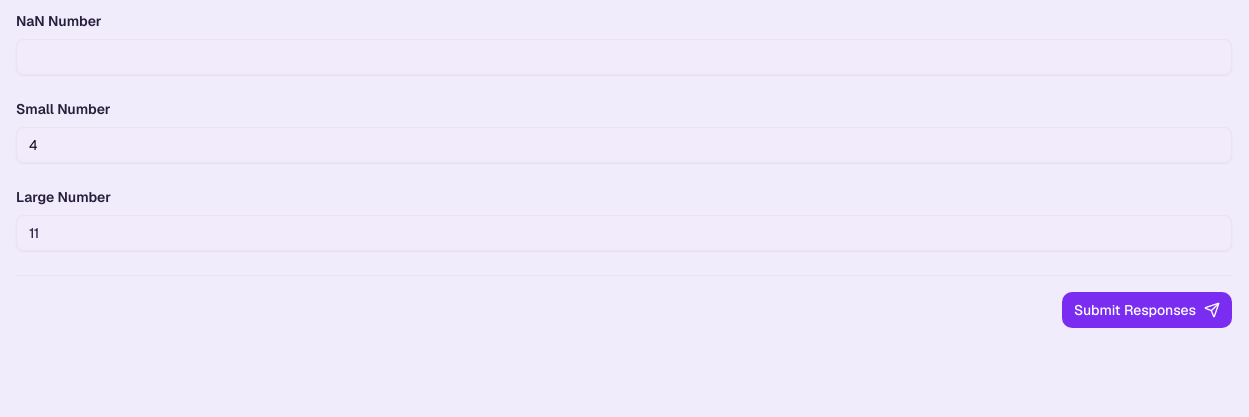
Test: DynamicSurveyForm › validates numeric bounds and NaN values
Click the button "Submit Responses": (1147, 310) [1062,292,1232,328]
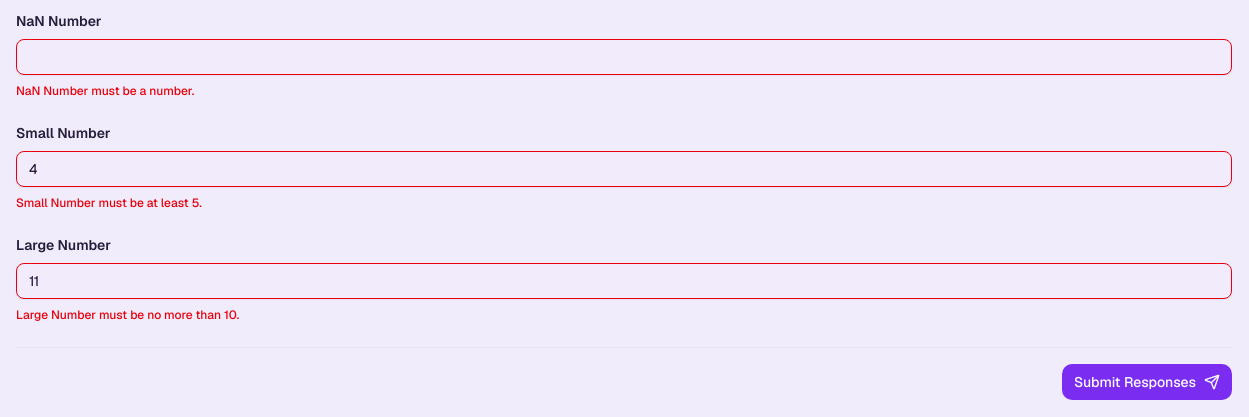
Result: the text "NaN Number must be a number." is shown at [16,83,194,99]
Result: the text "Small Number must be at least 5." is shown at [16,195,202,211]
Result: the text "Large Number must be no more than 10." is shown at [16,307,239,323]
